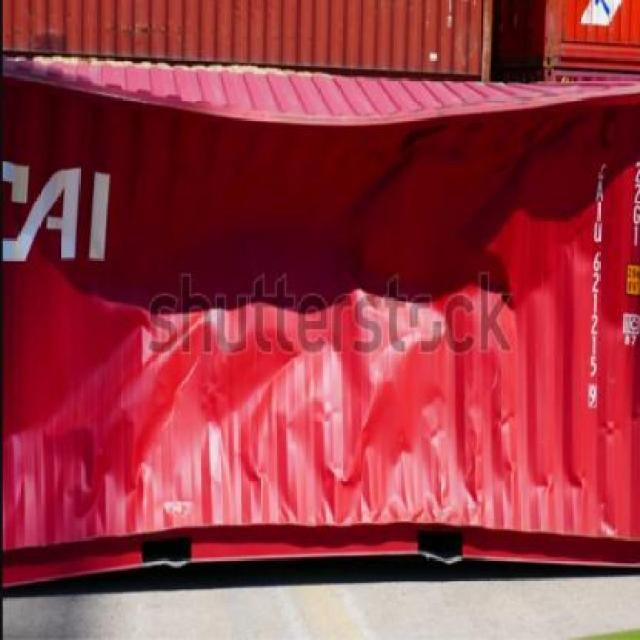Deframe: (6, 78, 608, 551), (8, 56, 608, 125)
